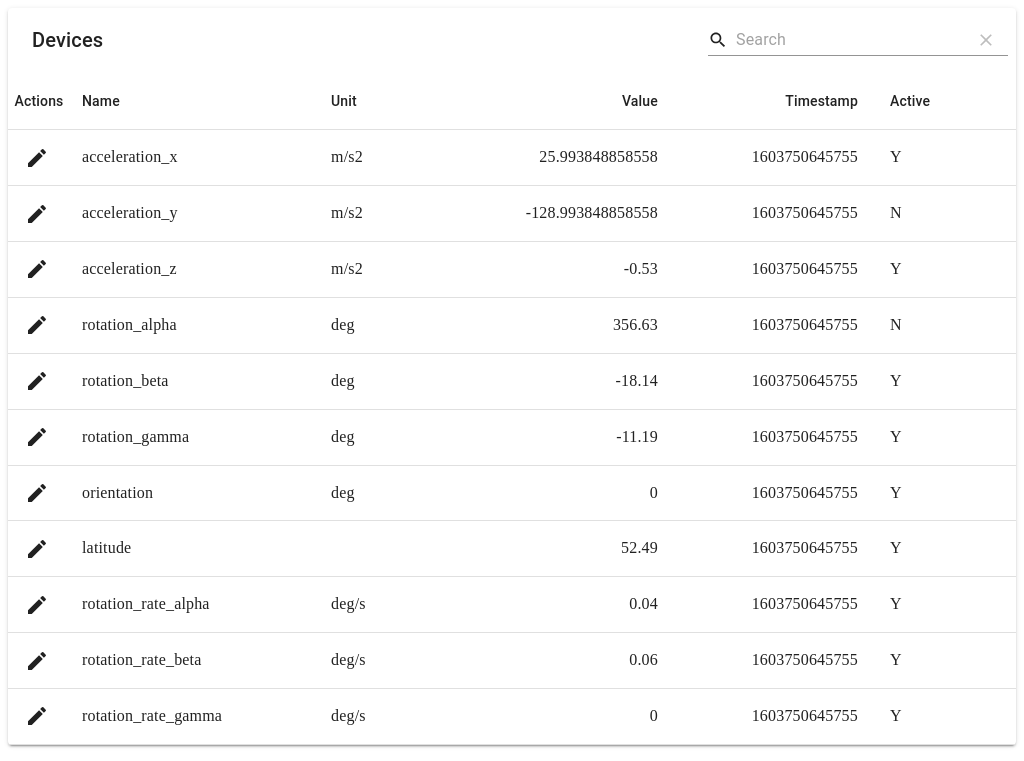
it: Devices.tsx › should test search
This screenshot has width=1024, height=761.
Type "zzz" into the field with placeholder "Search".
click(846, 40); type("zzz")  # box [736,24,956,56]
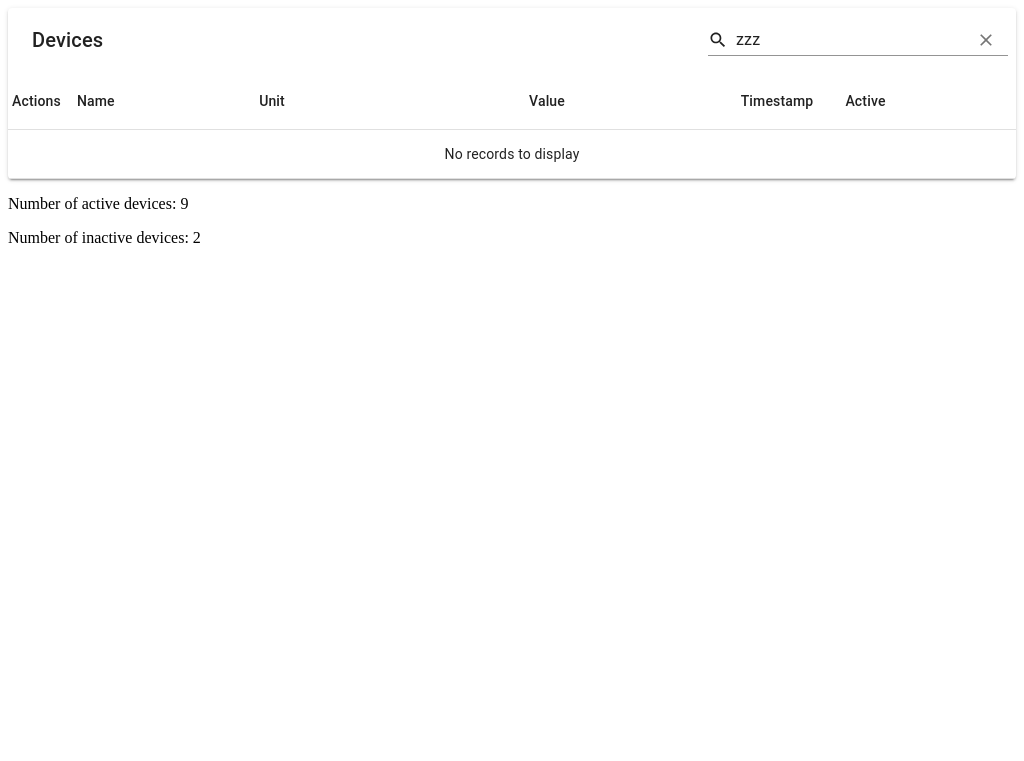
Now the text "No records to display" is shown, box [8,130,1016,179]
Replace the text in the field with placeholder "Search" with "ori" at (846, 40), box [736,24,956,56]
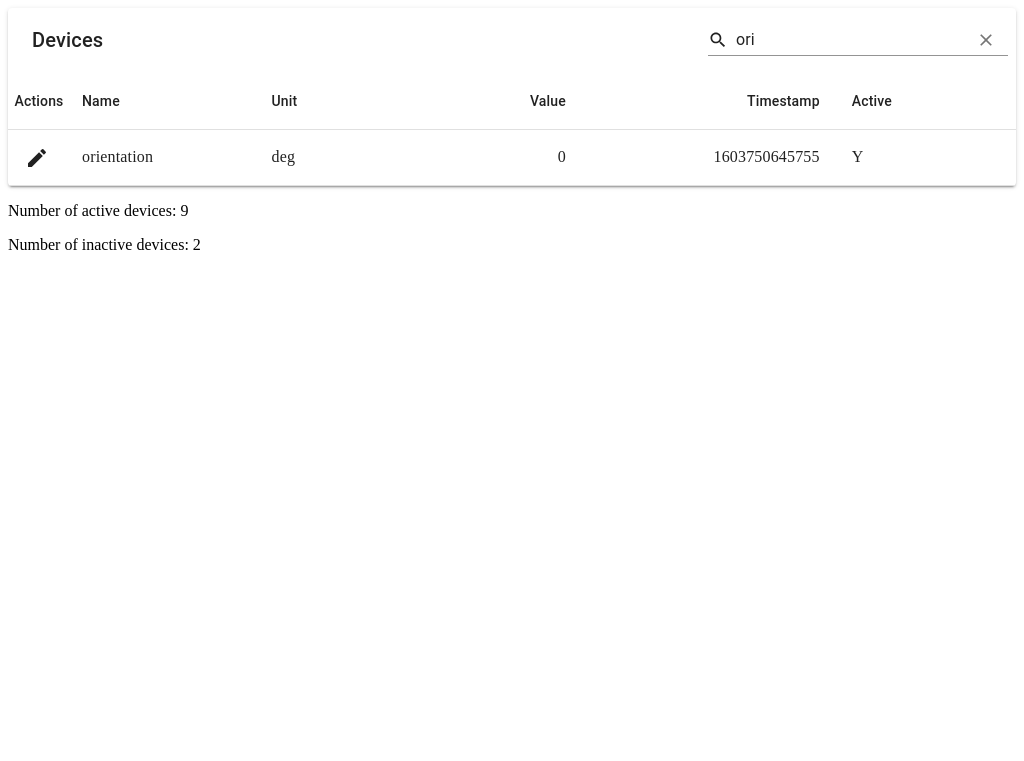
Now the text "No records to display" is gone
Now the text "orientation" is shown, box [66,130,256,186]
